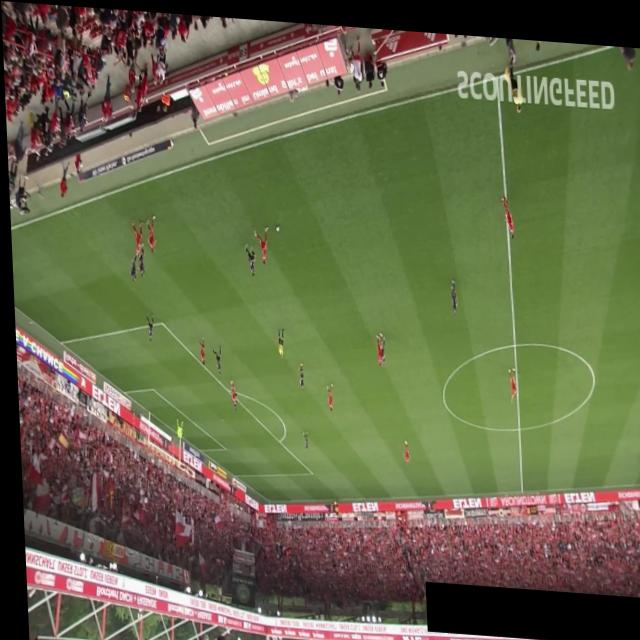goalkeeper: (171, 414, 180, 439)
player: (250, 221, 268, 261), (499, 188, 512, 231), (128, 217, 142, 254), (143, 211, 155, 250), (241, 238, 254, 273), (372, 326, 382, 361), (504, 359, 513, 396), (125, 250, 136, 280), (142, 309, 152, 340), (209, 341, 219, 369), (134, 245, 143, 275), (447, 272, 454, 308), (322, 377, 330, 405), (194, 333, 201, 362), (294, 357, 301, 386), (226, 375, 233, 402), (226, 384, 234, 407), (398, 432, 405, 457), (297, 424, 304, 447)
referee: (502, 55, 522, 105), (273, 322, 281, 355), (328, 492, 334, 508)
